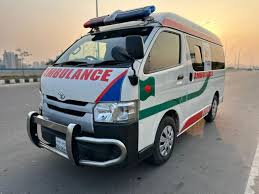Ambulance: (22, 9, 233, 168)
